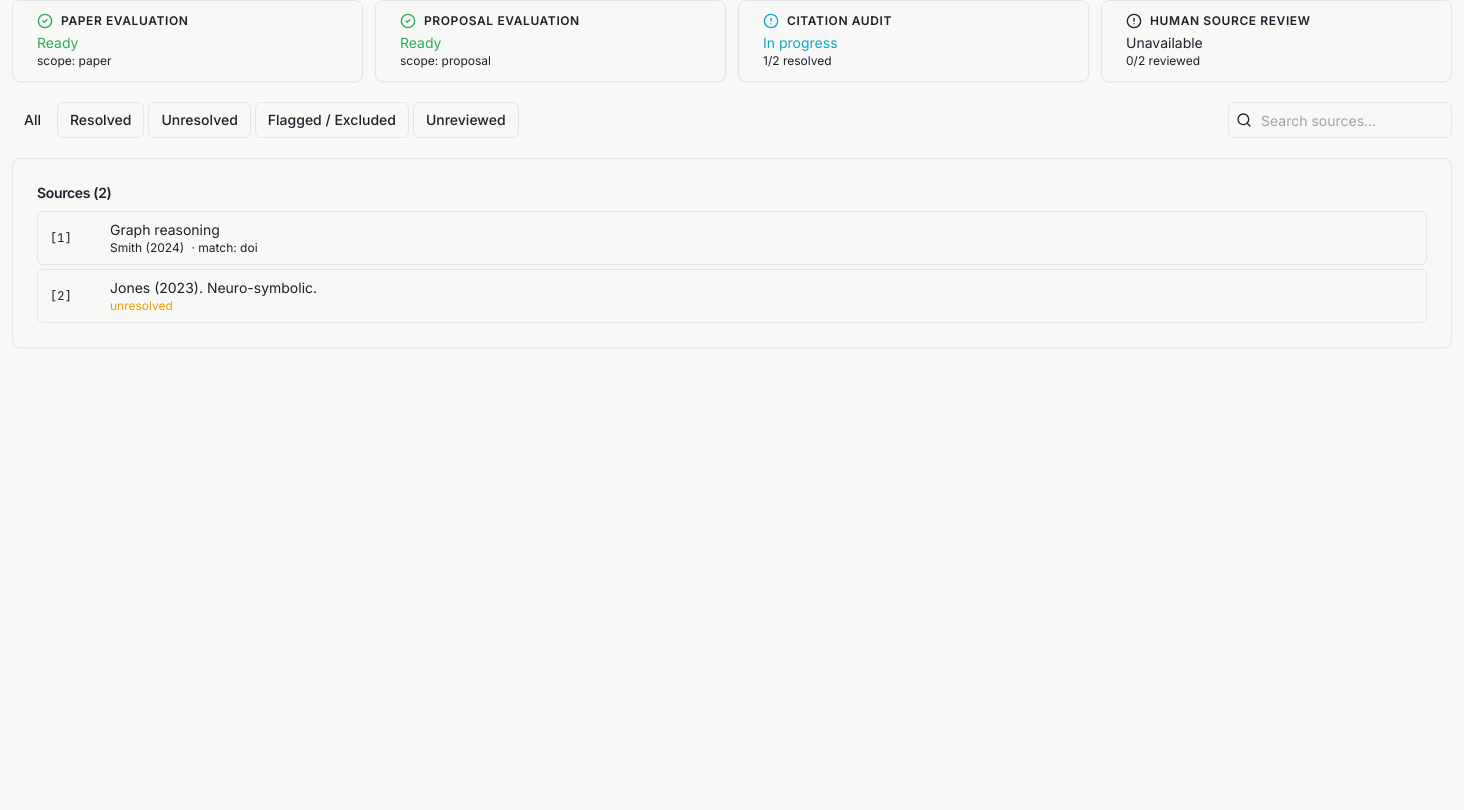
TrustSourcesWorkspace › case 4: source detail shows available metadata + unavailable stated
# Click the unresolved source (no metadata)
Click the text "Jones (2023). Neuro-symbolic." at (214, 288), box [110, 279, 317, 296]
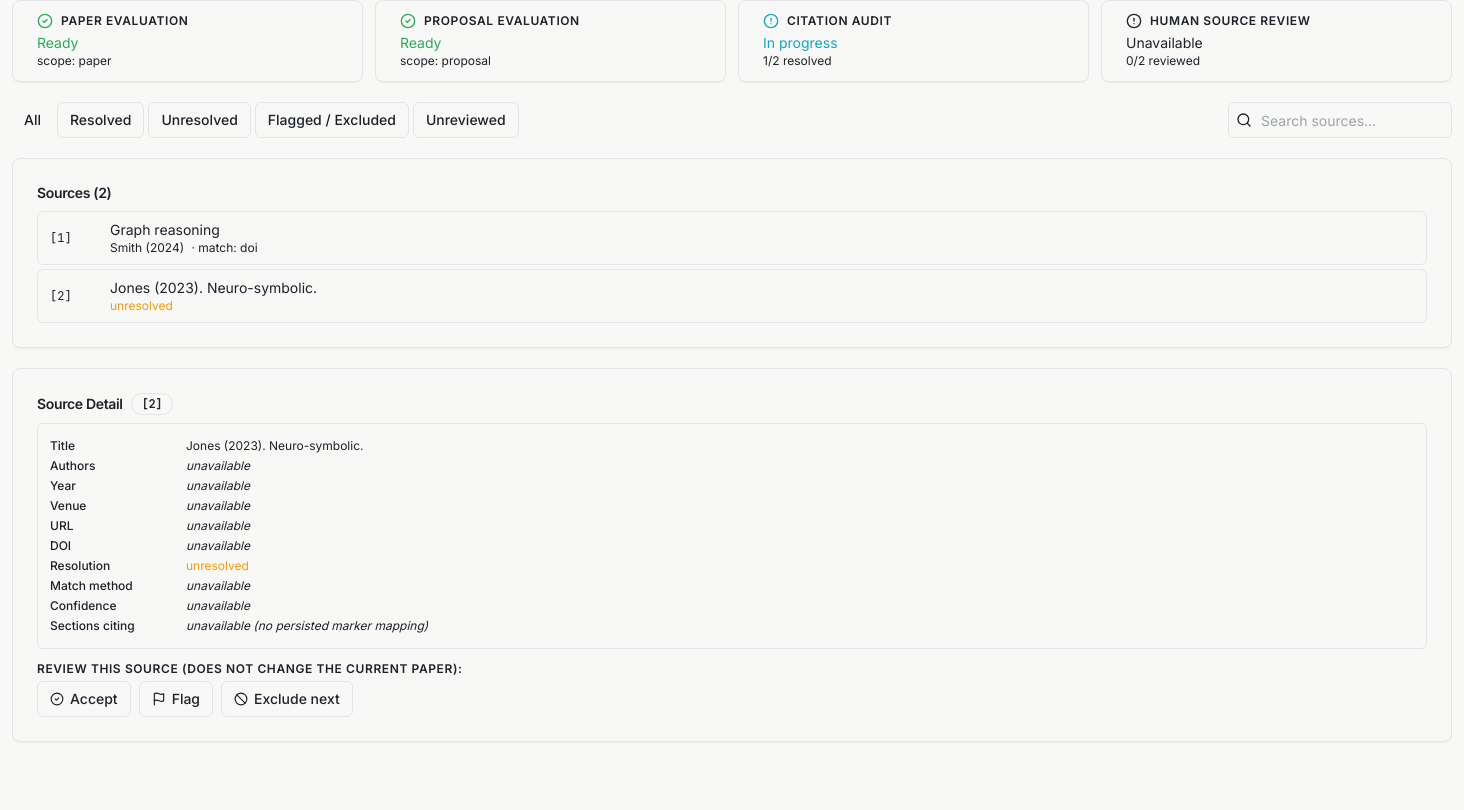
Expected: the text "Unavailable" is shown, [1126, 34, 1203, 51]
Expected: the heading "Source Detail [2]" is shown, [37, 393, 173, 415]
